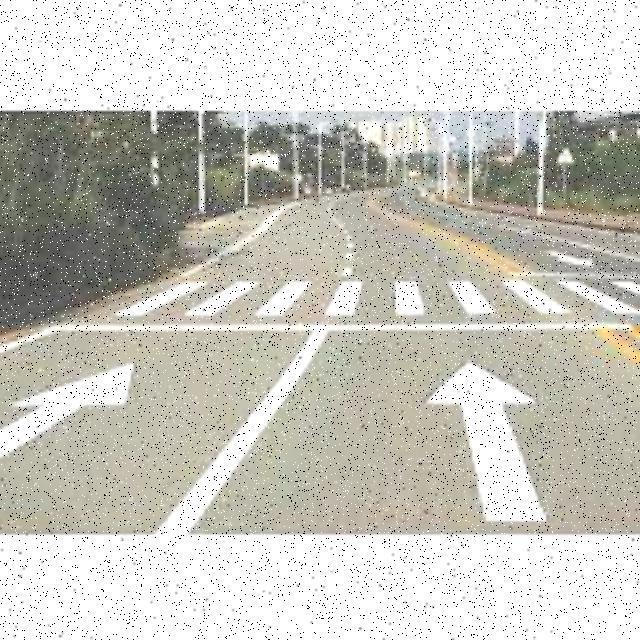Pedestrian crosswalk: (101, 259, 630, 336)
